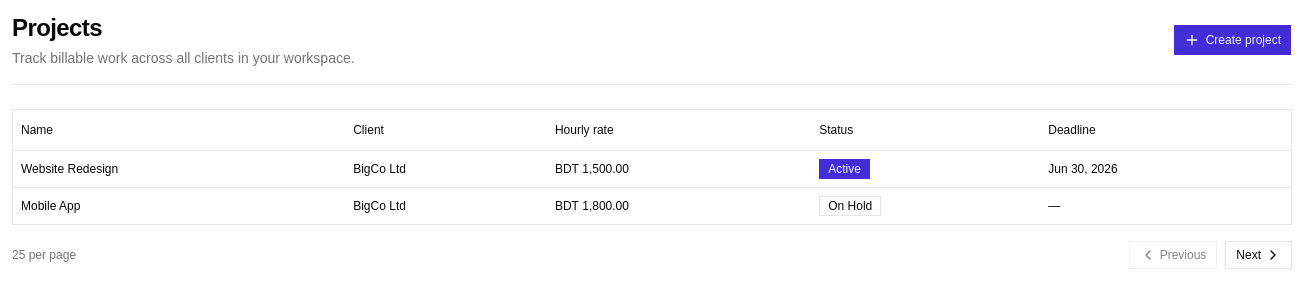
ProjectsPage › paginates projects with cursor controls
Expected: the text "Website Redesign" is shown, [13,150,345,187]
Expected: the text "Mobile App" is shown, [13,187,345,224]
Click the button "Next": x=1259, y=254 [1225,240,1292,268]
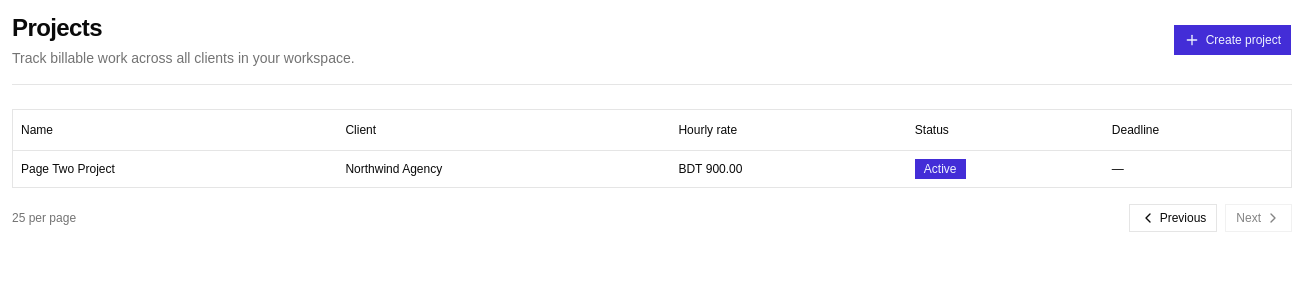
Now the text "Page Two Project" is shown, box [13,150,337,186]
